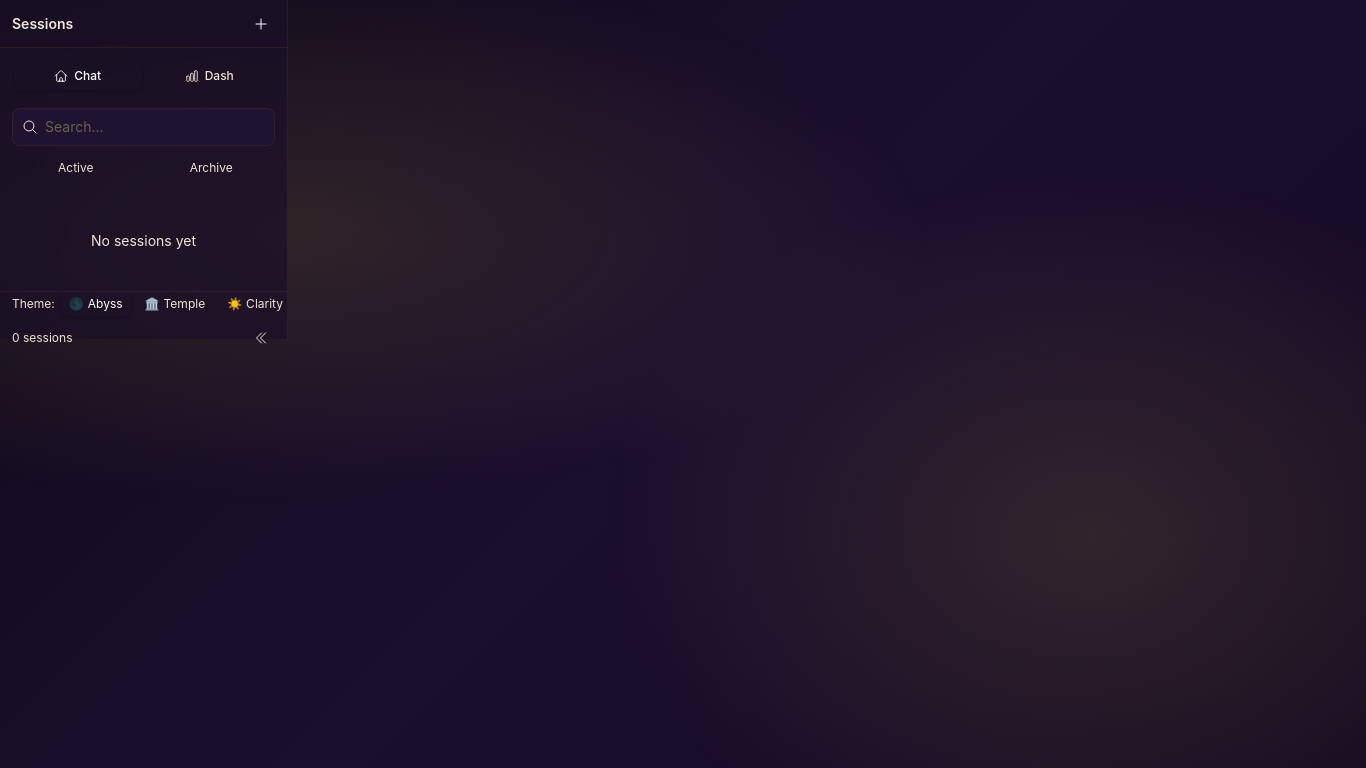
Sidebar › view toggle › renders ArchiveBrowser when archive is shown
The image size is (1366, 768).
Click the button "Archive": (211, 168) [148,154,275,182]
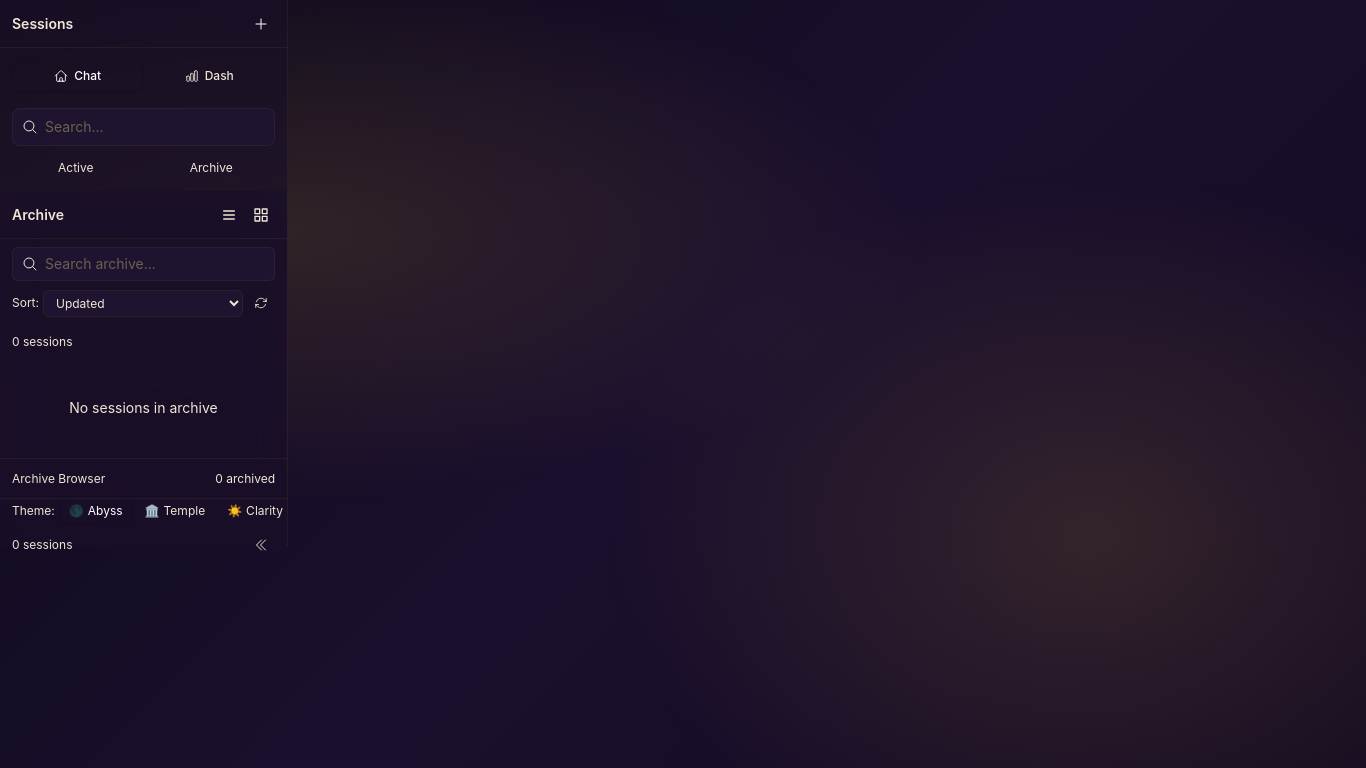
Expected: the heading "Archive" is shown, [12,204,64,224]
